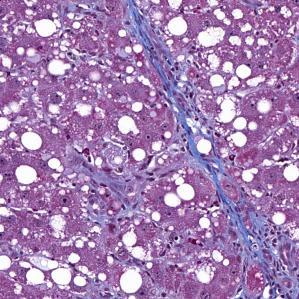fibrosis: (204, 148, 278, 266), (130, 15, 187, 108)
